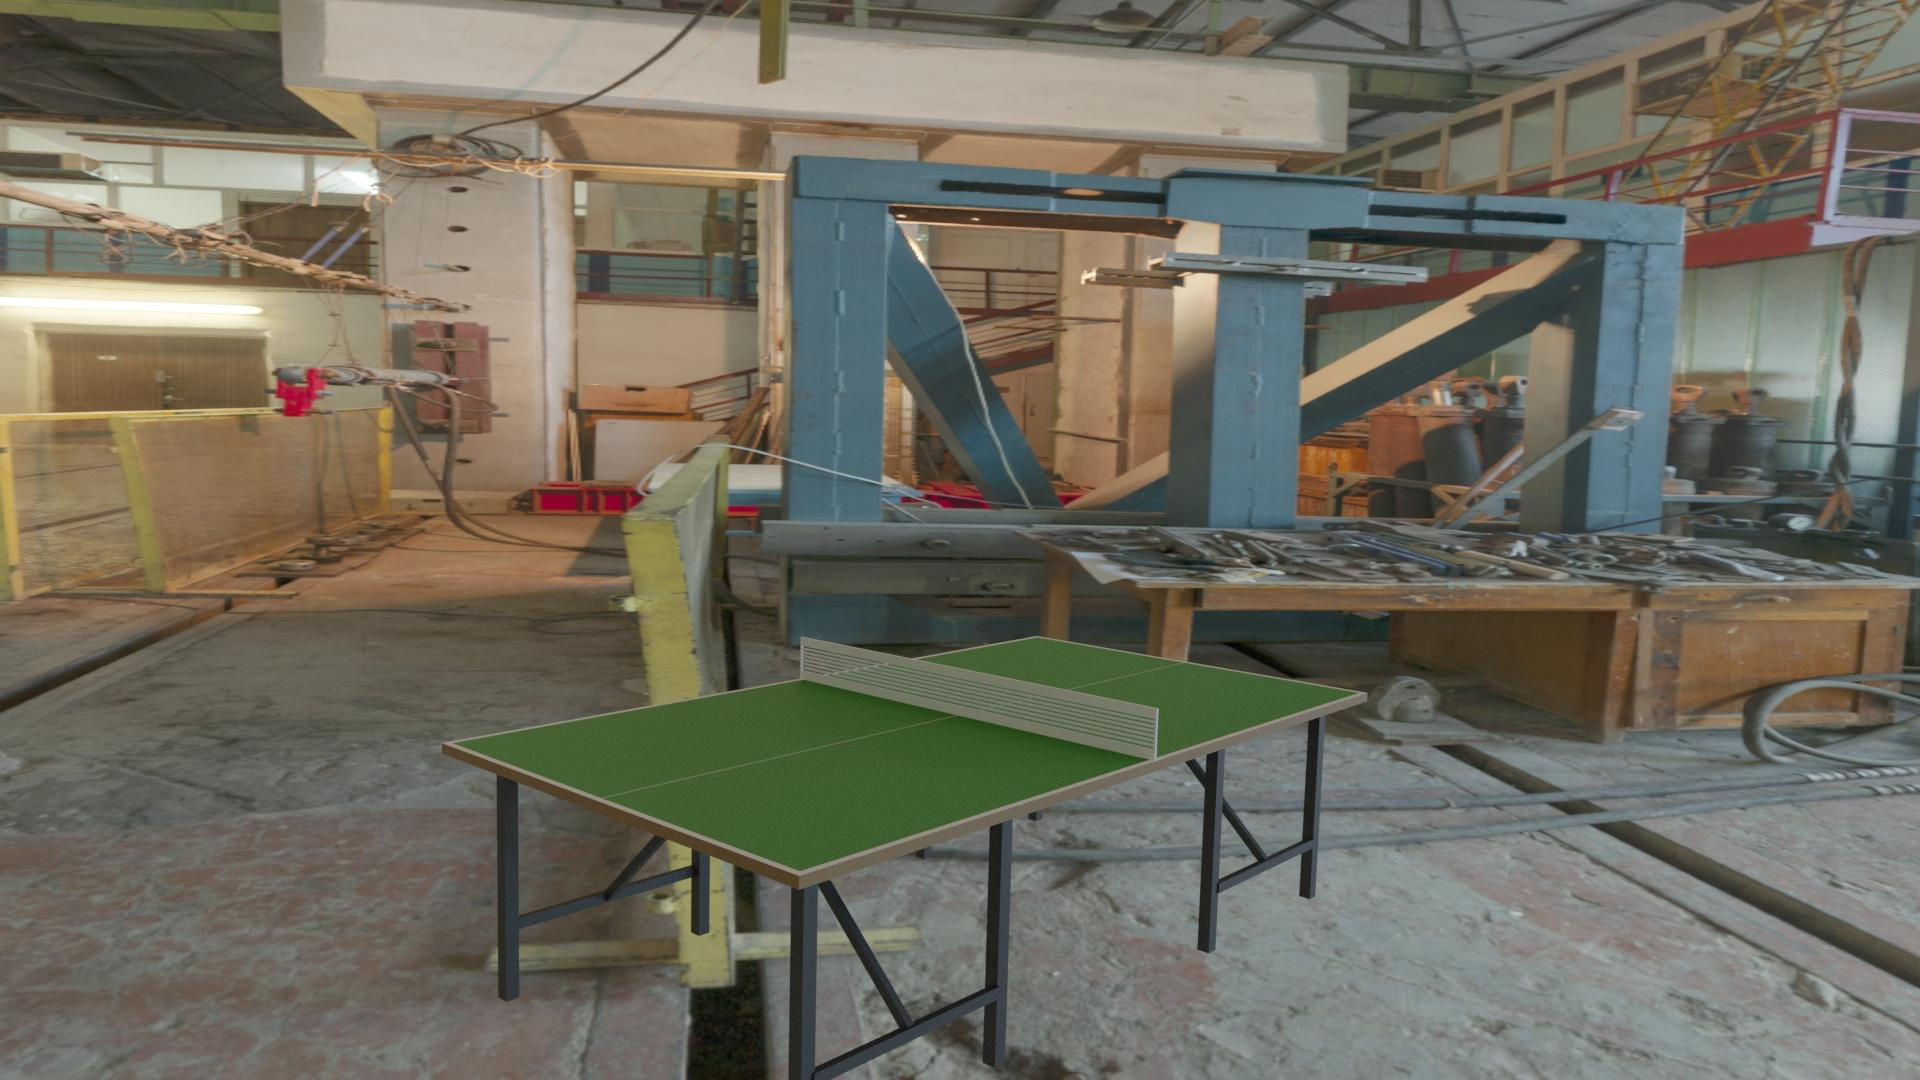table: (452, 637, 1360, 872)
